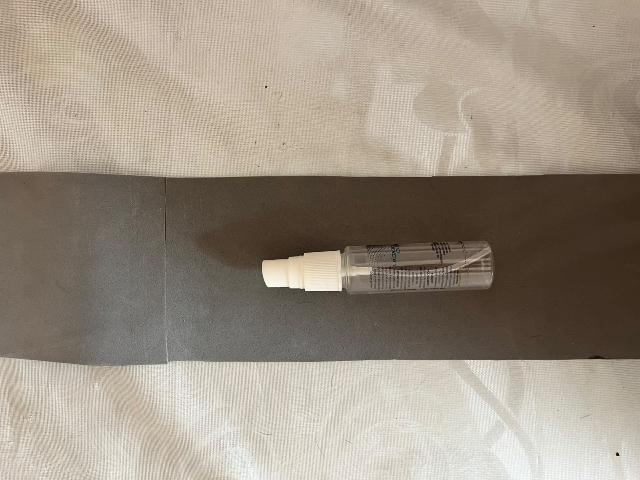PET: (204, 214, 520, 358)
